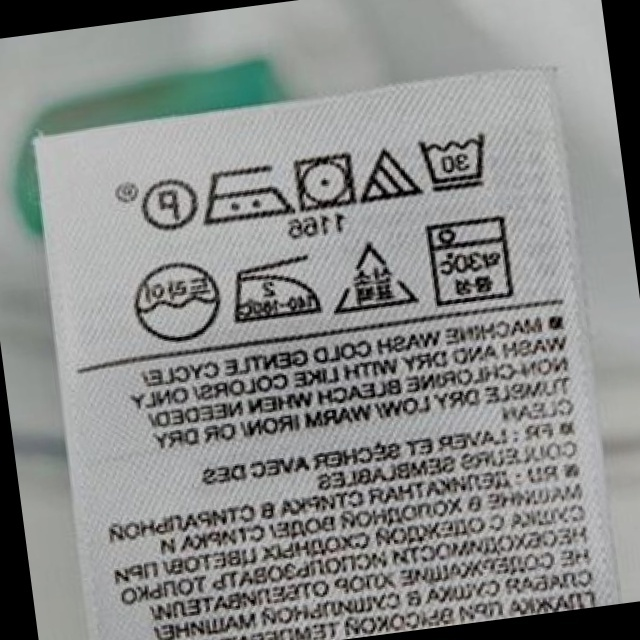30C: (420, 209, 524, 311), (414, 123, 495, 201)
dry_clean: (122, 258, 228, 347)
dry_clean_any_solvent_except_trichloroethylene: (140, 175, 200, 236)
iron_medium: (222, 250, 327, 329), (195, 157, 298, 232)
non_chlorine_bleach: (325, 240, 421, 321), (351, 146, 422, 209)
tumble_dry_low: (287, 150, 360, 212)
